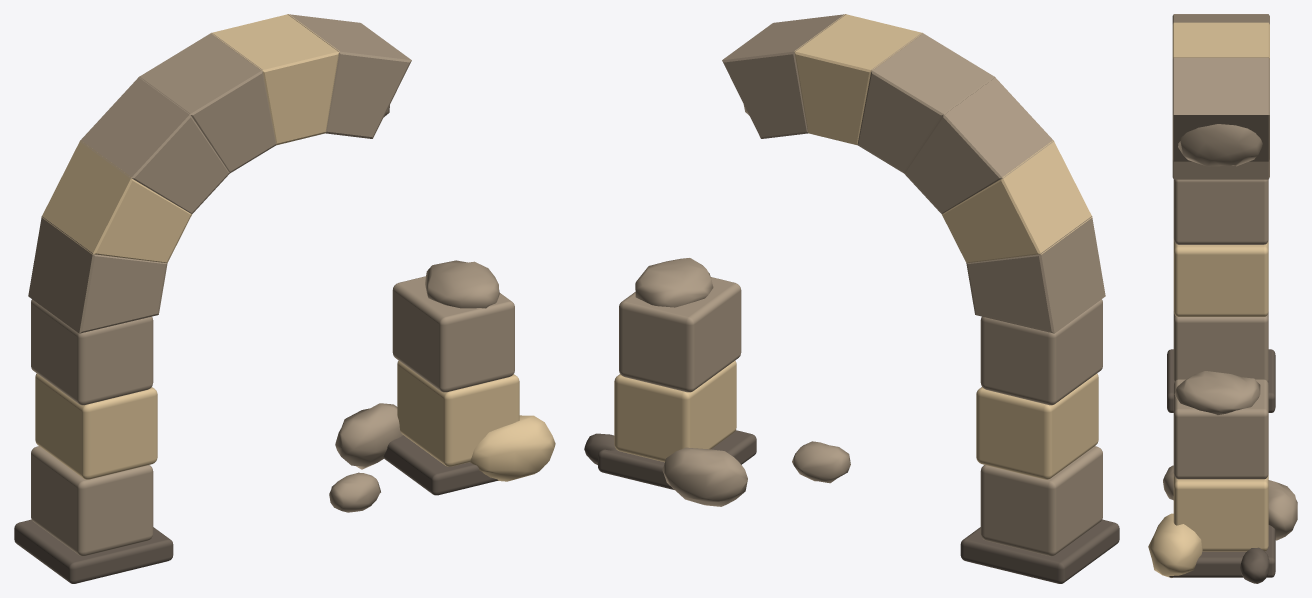
File: extra_sandstone_arch.glb
The picture shows the model from 3 angles, left to right: view 1: azimuth 30°, elevation 25°; view 2: azimuth 150°, elevation 25°; view 3: azimuth 270°, elevation 25°; orthographic projection. The views are drawn at different scales.
Visible parts, largest first — view 1: stone, metal, wood; view 2: stone, metal, wood; view 3: metal, stone, wood.
Part boxes in pixels (<box>): stone: <box>28,14,499,333</box>; metal: <box>31,276,519,556</box>; wood: <box>14,105,555,583</box>; stone: <box>635,14,1105,333</box>; metal: <box>614,277,1102,556</box>; wood: <box>584,104,1119,583</box>; metal: <box>1173,179,1268,551</box>; stone: <box>1172,14,1269,414</box>; wood: <box>1148,124,1297,583</box>.
Bounding box in the file's own units: 2.8 × 2.6 × 0.8.
